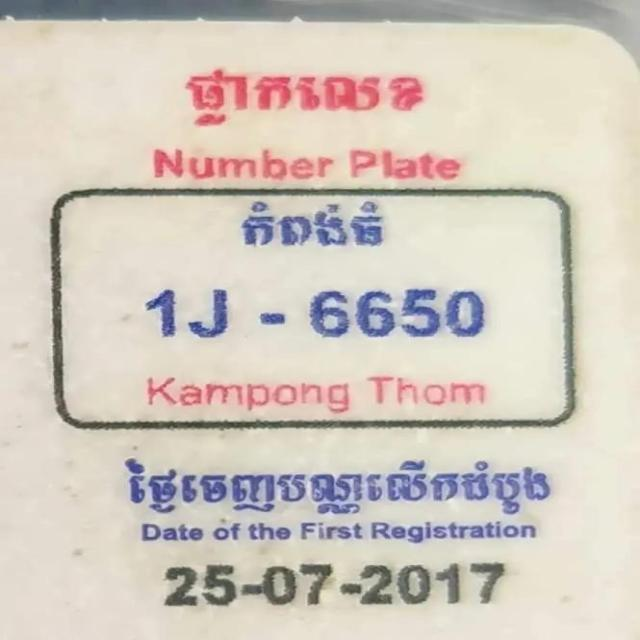Kampong_Thom: (240, 201, 384, 254)
